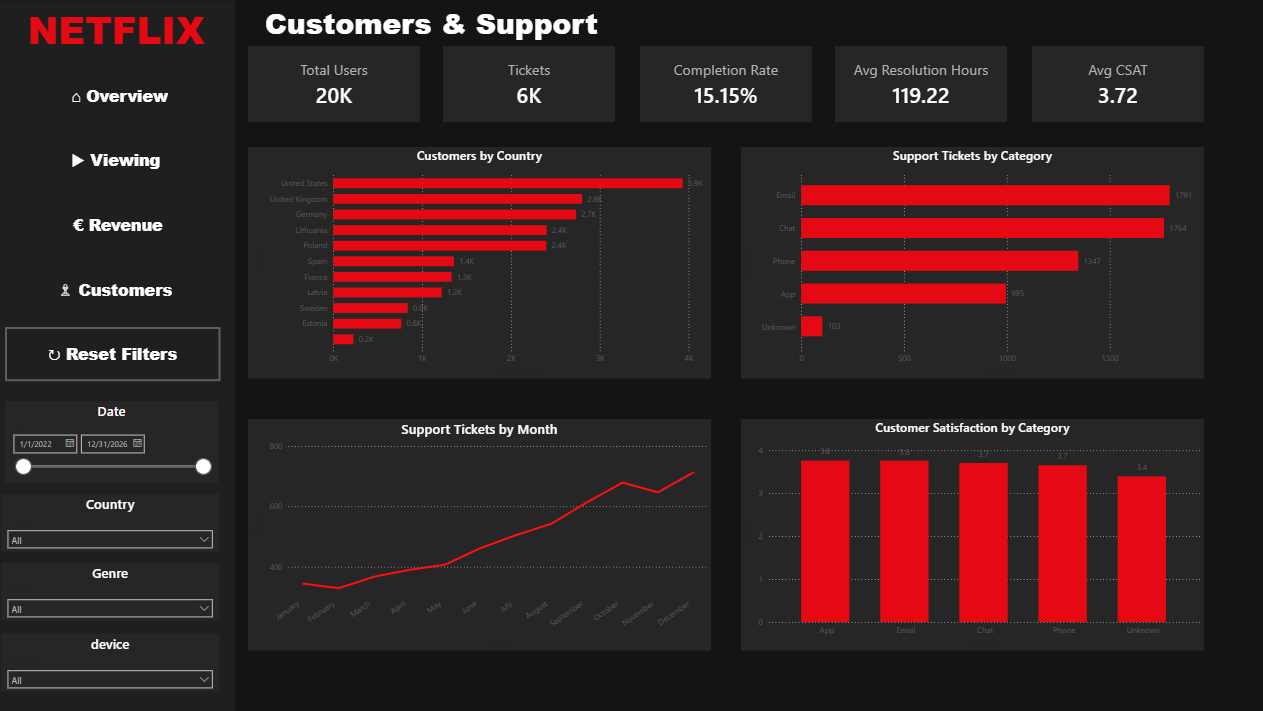

The dashboard page shown, as its layout file describes it:
{"tool":"powerbi","page":{"name":"4. Customers & Support","canvas":[1920,1080],"ordinal":3},"visuals":[{"type":"shape","box":[0,0,360,1080],"z":0},{"type":"textbox","box":[0,0,360.7,99.3],"z":1000},{"type":"textbox","box":[360.7,0,590.6,80.1],"z":2000},{"type":"actionButton","box":[17.2,201.8,325.8,81.9],"z":3000},{"type":"actionButton","box":[14.7,397.1,325.8,81.9],"z":4000},{"type":"actionButton","box":[19.7,299.4,325.8,81.9],"z":5000},{"type":"actionButton","box":[12.2,494.8,325.8,81.9],"z":6000},{"type":"actionButton","box":[22.2,104.1,325.8,81.9],"z":6001},{"type":"cardVisual","fields":{"Data":["_Measures.Total Users"]},"box":[380,70,260,115],"z":6002},{"type":"cardVisual","fields":{"Data":["_Measures.Tickets"]},"box":[675,70,260,115],"z":6003},{"type":"cardVisual","fields":{"Data":["_Measures.Avg Resolution Hours"]},"box":[1266.7,70,260,115],"z":6004},{"type":"cardVisual","fields":{"Data":["_Measures.CSAT"]},"box":[1565,70,260,115],"z":6005},{"type":"cardVisual","fields":{"Data":["_Measures.Completion Rate"]},"box":[971.7,70,260,115],"z":6006},{"type":"clusteredBarChart","title":"Customers by Country","fields":{"Category":["users.country"],"Y":["_Measures.Total Users"]},"box":[380,221.7,700,350],"z":6007},{"type":"clusteredBarChart","title":"Support Tickets by Category","fields":{"Category":["support_tickets.channel"],"Y":["_Measures.Tickets"]},"box":[1125,221.7,700,350],"z":6008},{"type":"clusteredColumnChart","title":"Customer Satisfaction by Category","fields":{"Category":["support_tickets.channel"],"Y":["_Measures.CSAT"]},"box":[1125,633.3,700,350],"z":6009},{"type":"lineChart","title":"Support Tickets by Month","fields":{"Category":["Date.Date.Variation.Date Hierarchy.Month"],"Y":["_Measures.Tickets"]},"box":[380,633.3,700,350],"z":6010},{"type":"slicer","title":"Date","fields":{"Values":["Date.Date"]},"box":[11.7,606.7,321.7,123.3],"z":6011},{"type":"slicer","title":"Country","fields":{"Values":["users.country"]},"box":[6.7,746.7,330,86.7],"z":6012},{"type":"slicer","title":"Genre","fields":{"Values":["title_genres.genre"]},"box":[6.7,851.7,330,86.7],"z":6013},{"type":"slicer","title":"device","fields":{"Values":["viewing_history.device"]},"box":[6.7,958.3,330,86.7],"z":6014}]}

Visuals, with their boxes on the page's 1920x1080 design canvas (x1, y1, x2, y2). These are canvas units, not pixel positions in the 1263x711 screenshot, which may show the page scaled, cropped or inside an application window:
shape: bbox(0, 0, 360, 1080)
textbox: bbox(0, 0, 361, 99)
textbox: bbox(361, 0, 951, 80)
actionButton: bbox(17, 202, 343, 284)
actionButton: bbox(15, 397, 340, 479)
actionButton: bbox(20, 299, 346, 381)
actionButton: bbox(12, 495, 338, 577)
actionButton: bbox(22, 104, 348, 186)
cardVisual - _Measures.Total Users: bbox(380, 70, 640, 185)
cardVisual - _Measures.Tickets: bbox(675, 70, 935, 185)
cardVisual - _Measures.Avg Resolution Hours: bbox(1267, 70, 1527, 185)
cardVisual - _Measures.CSAT: bbox(1565, 70, 1825, 185)
cardVisual - _Measures.Completion Rate: bbox(972, 70, 1232, 185)
"Customers by Country" clusteredBarChart: bbox(380, 222, 1080, 572)
"Support Tickets by Category" clusteredBarChart: bbox(1125, 222, 1825, 572)
"Customer Satisfaction by Category" clusteredColumnChart: bbox(1125, 633, 1825, 983)
"Support Tickets by Month" lineChart: bbox(380, 633, 1080, 983)
"Date" slicer: bbox(12, 607, 333, 730)
"Country" slicer: bbox(7, 747, 337, 833)
"Genre" slicer: bbox(7, 852, 337, 938)
"device" slicer: bbox(7, 958, 337, 1045)
